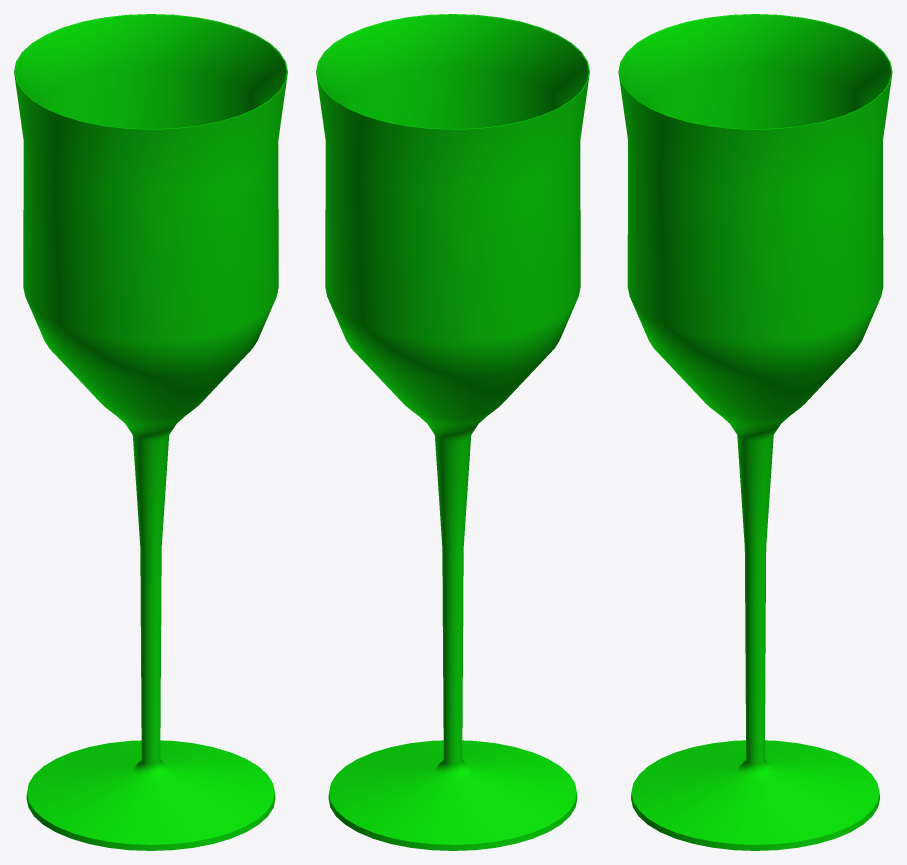
File: Glass5_LOD_2.fbx
3 views of the same model, side by side, from view 1: azimuth 30°, elevation 25°; view 2: azimuth 150°, elevation 25°; view 3: azimuth 270°, elevation 25° (orthographic).
Parts seen in each view (by area): view 1: Glass5_LOD_2; view 2: Glass5_LOD_2; view 3: Glass5_LOD_2.
Boxes of the visible parts, box(x1,y1,x2,y2) form: Glass5_LOD_2: box(14, 14, 287, 850); Glass5_LOD_2: box(316, 14, 589, 850); Glass5_LOD_2: box(618, 14, 892, 850).
Bounding box in the file's own units: 1.55 × 4.53 × 1.55.
